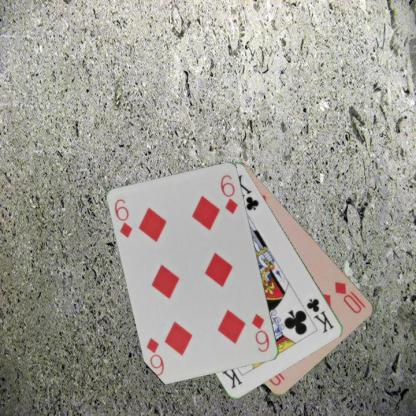10d: (332, 278, 367, 315)
6d: (249, 310, 271, 354), (112, 197, 134, 240)
Kc: (304, 296, 336, 334)
